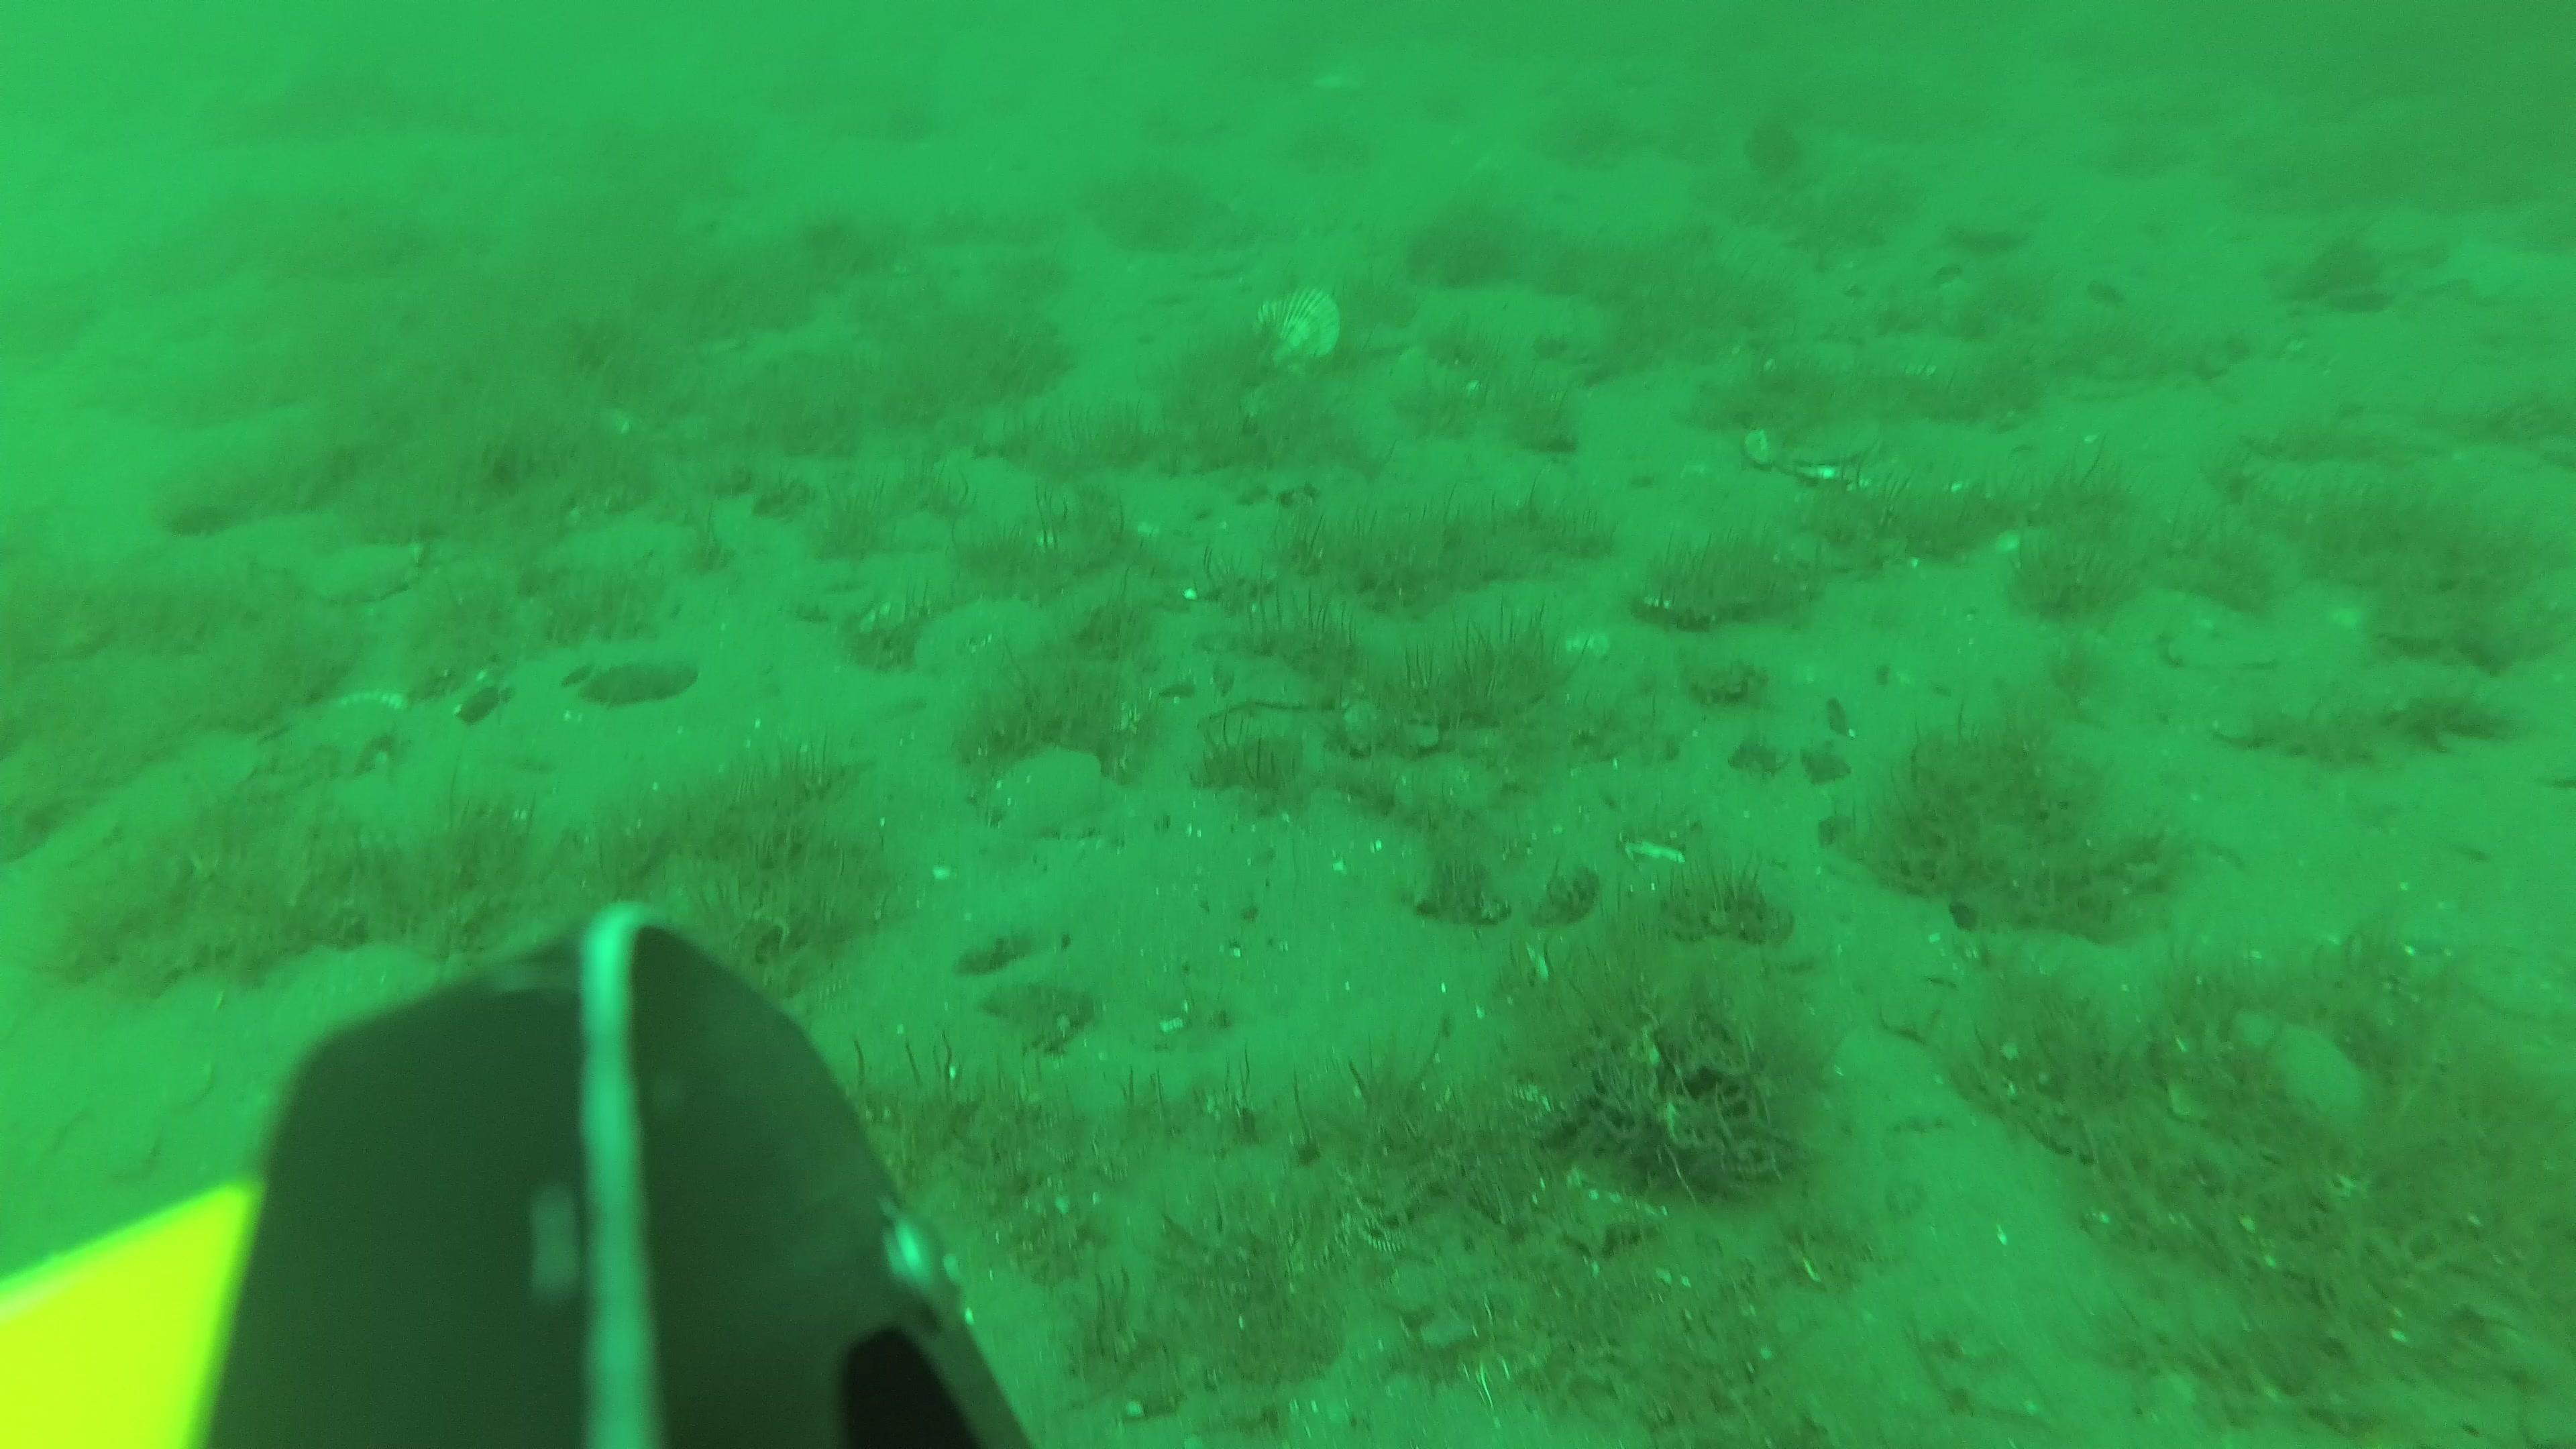scallop: (278, 945, 428, 1054), (978, 745, 1116, 847), (1743, 416, 1882, 488), (1249, 288, 1339, 375), (304, 545, 419, 602)
